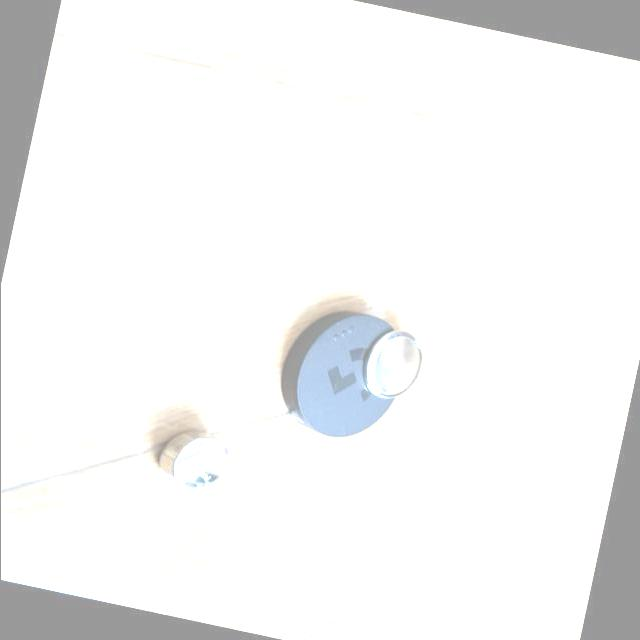COIN: (154, 424, 233, 496), (360, 323, 428, 404)
